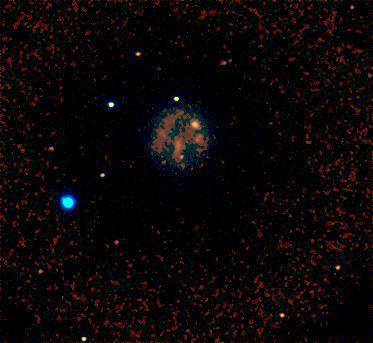star: (179, 112, 209, 142)
